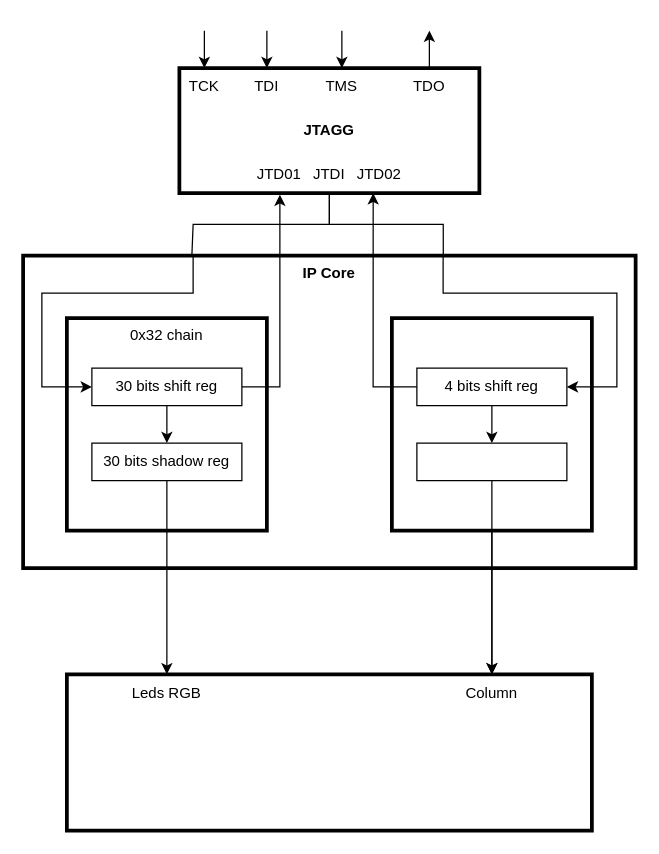
Some shapes in this 659 by 854 pixel diagram are drawn without their labels. The box of each missing label's shape, as (x1, y1, x2, y2) in pixels:
0x38 chain: (389, 316, 593, 532)
4 bits shadow reg: (416, 442, 567, 481)
LED Array: (64, 672, 593, 832)
